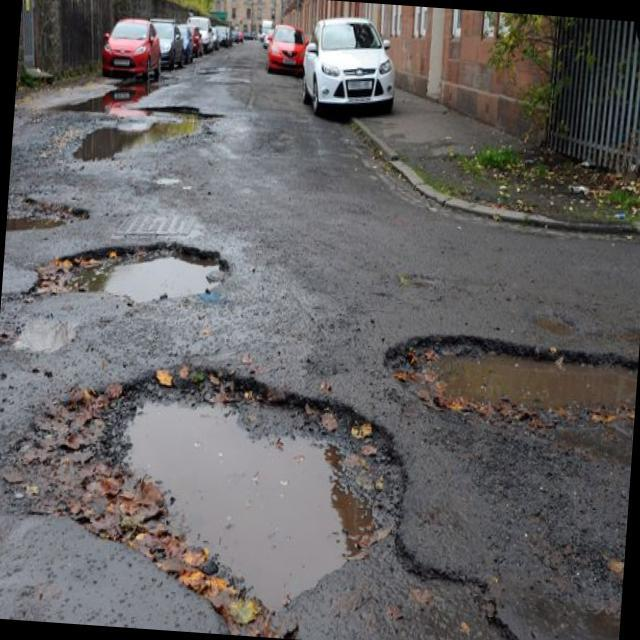Pothole: (85, 353, 396, 614), (402, 321, 639, 426), (52, 226, 238, 316), (144, 100, 218, 150), (76, 118, 139, 170)
